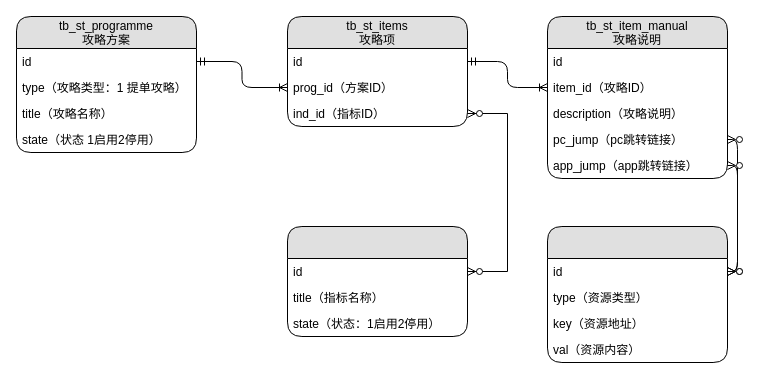
This 759x379 diagram has some shape labels left out. Each missing label, with the box of its shape:
tb_conf_indicator 指标配置项: (286, 226, 468, 336)
tb_conf_resource 资源配置项: (546, 226, 728, 362)
